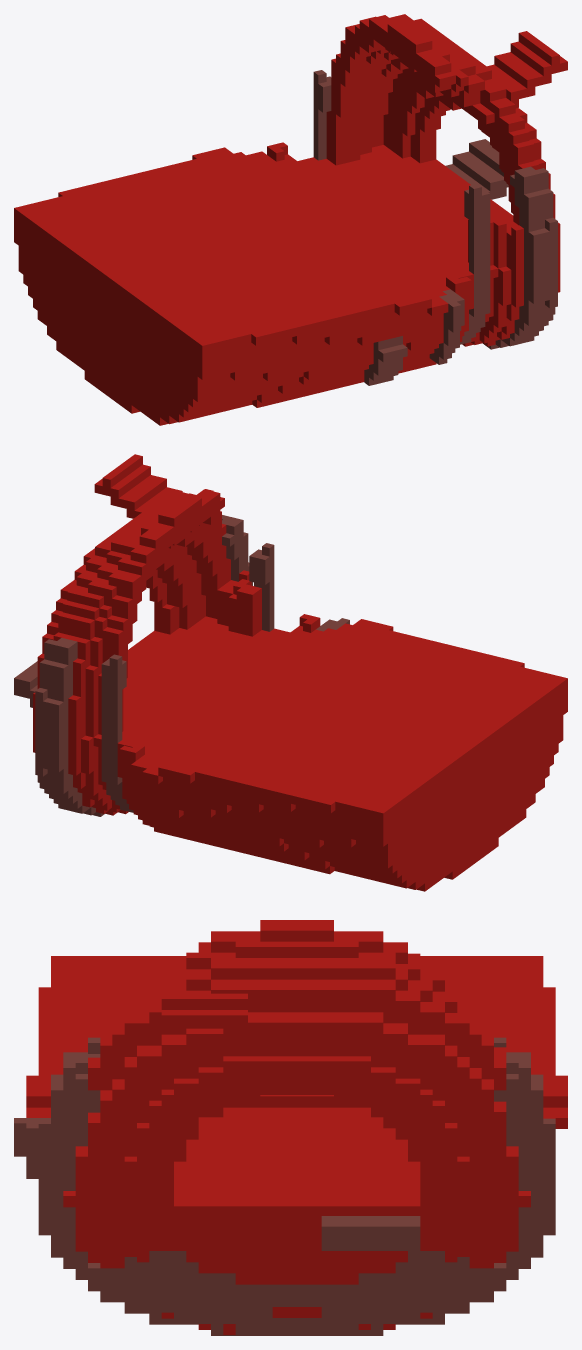
The model's file is crashed_light_helicopter_belly.glb.
3 renders of one model, top to bottom at view 1: azimuth 30°, elevation 25°; view 2: azimuth 150°, elevation 25°; view 3: azimuth 270°, elevation 25°, orthographic. The views are drawn at different scales.
Parts seen in each view (by area): view 1: body:compound; view 2: body:compound; view 3: body:compound.
Part boxes in pixels (left/top/right/bottom): body:compound: left=14, top=14, right=567, bottom=425; body:compound: left=14, top=454, right=567, bottom=891; body:compound: left=14, top=920, right=567, bottom=1335.
Size of the model in its own units: 1.62 by 1.06 by 1.41.
